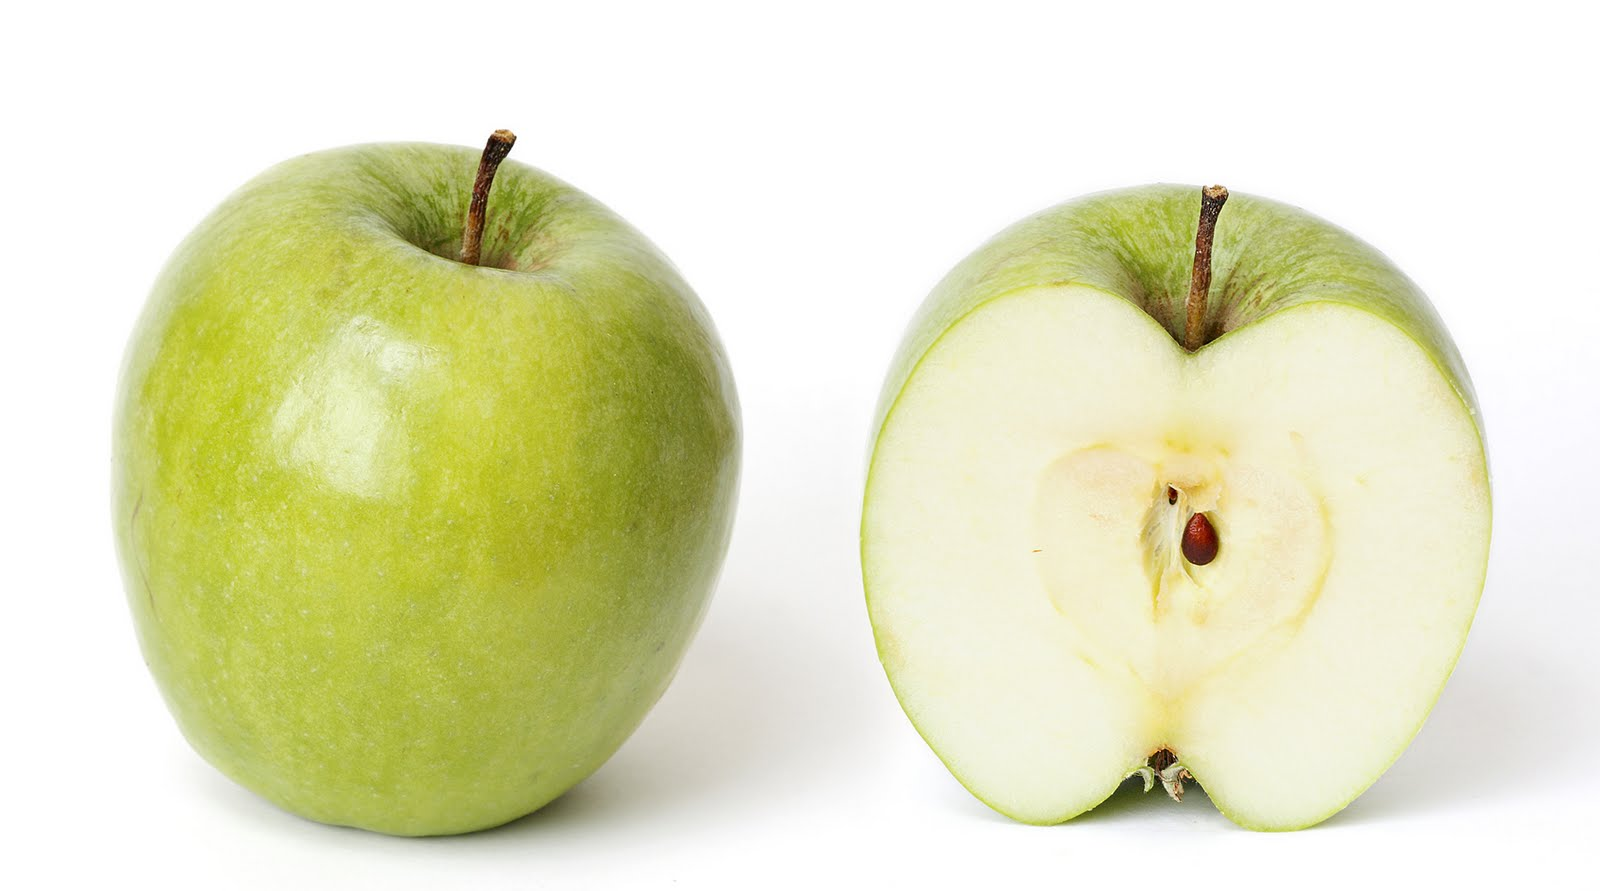apple: (109, 114, 757, 841)
